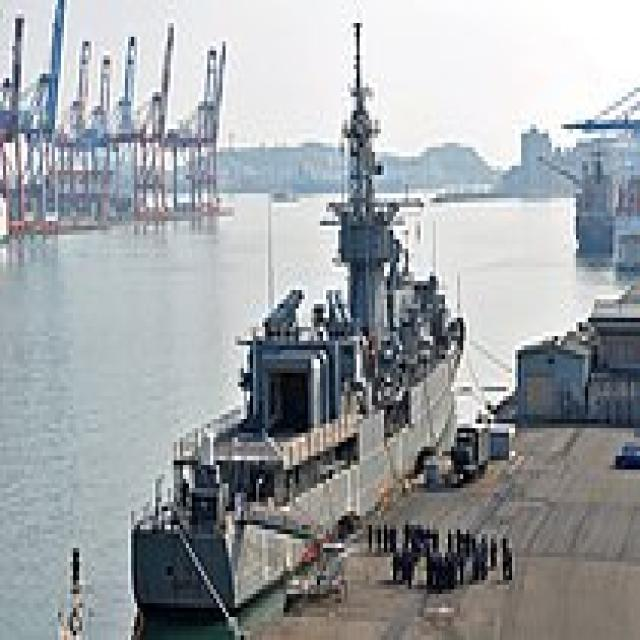Warship: (122, 14, 466, 612)
